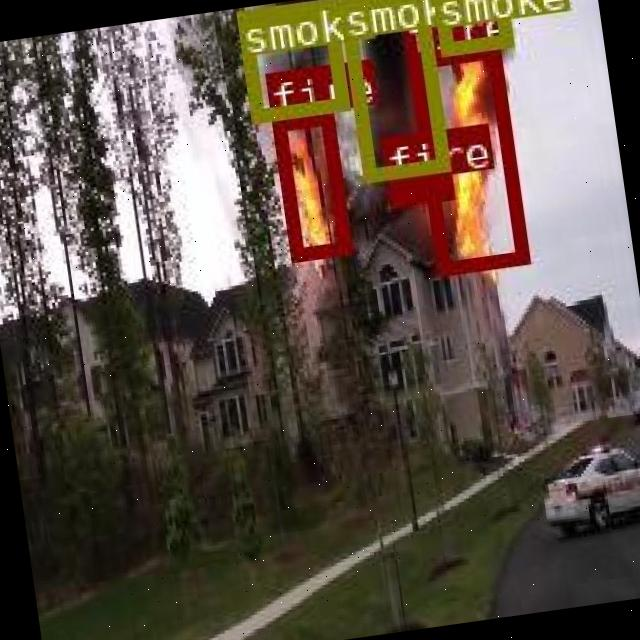fire: (406, 42, 527, 274), (270, 108, 348, 260), (386, 174, 452, 206)
smoke: (338, 0, 446, 181), (235, 0, 347, 121), (431, 0, 510, 52)
